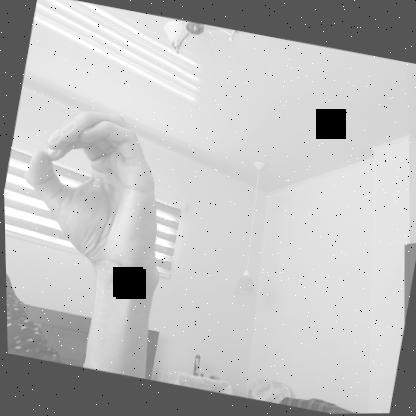O: (7, 93, 182, 273)
